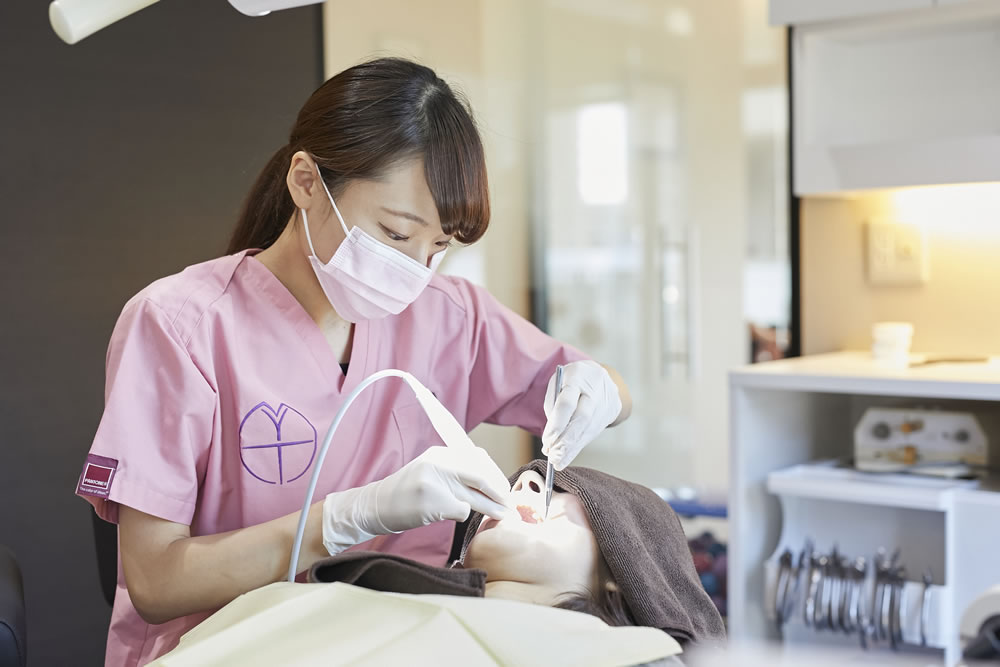mask: (308, 223, 449, 322)
